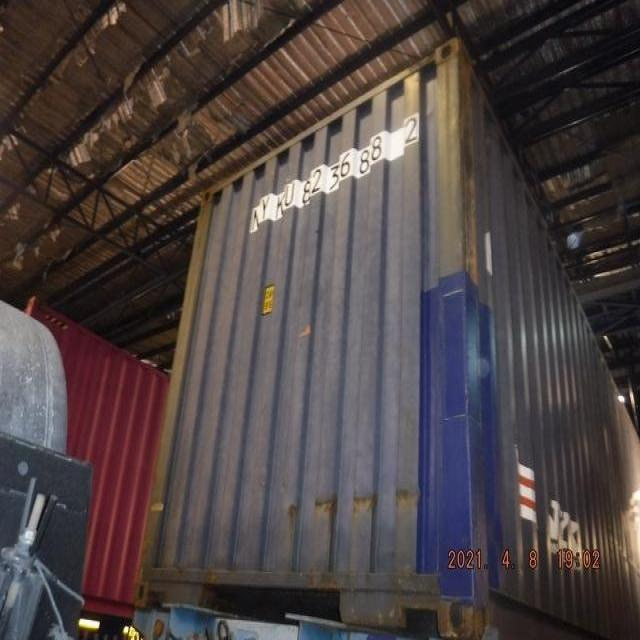dent: (265, 482, 424, 524)
